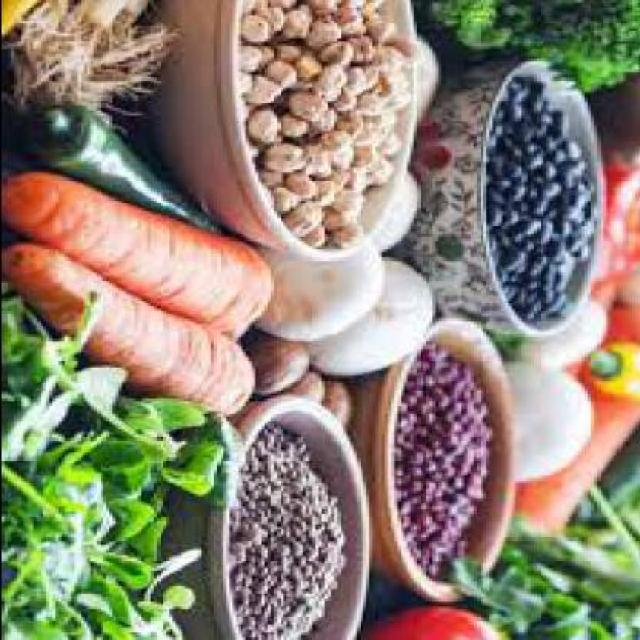BIODEGRADABLE: (3, 177, 275, 340), (3, 247, 260, 416), (452, 491, 638, 640), (3, 406, 168, 568), (488, 82, 595, 324), (22, 108, 226, 234), (402, 347, 498, 578), (6, 2, 177, 121), (0, 550, 206, 638), (440, 3, 638, 94), (269, 427, 349, 639), (314, 260, 437, 380), (260, 247, 386, 342), (507, 365, 596, 486), (3, 340, 92, 445), (232, 470, 280, 638), (522, 303, 612, 375), (76, 370, 156, 450), (453, 563, 539, 632), (357, 610, 501, 638), (3, 378, 51, 462), (377, 174, 425, 254), (248, 342, 314, 398), (92, 447, 158, 499), (583, 580, 639, 640), (164, 444, 222, 498), (590, 344, 638, 404), (110, 495, 162, 548), (36, 391, 70, 460), (143, 398, 206, 434), (209, 416, 251, 469), (422, 41, 443, 116), (134, 522, 171, 563), (355, 116, 396, 152), (285, 95, 330, 126), (285, 203, 326, 237), (320, 386, 354, 426), (4, 2, 38, 40), (320, 138, 358, 172), (253, 111, 284, 149), (308, 23, 344, 54), (270, 144, 307, 174), (292, 375, 330, 403), (314, 45, 358, 69), (264, 62, 301, 90), (323, 212, 365, 236), (250, 82, 284, 110), (333, 193, 367, 221), (358, 21, 396, 44), (279, 15, 310, 43), (390, 39, 421, 66), (349, 42, 383, 66), (333, 228, 370, 250), (273, 41, 310, 62), (310, 111, 342, 135), (286, 178, 320, 200), (314, 75, 341, 102), (336, 13, 367, 36), (355, 93, 383, 118), (345, 69, 367, 100), (349, 168, 374, 195), (285, 118, 313, 142), (245, 49, 266, 80), (245, 19, 269, 46), (384, 78, 411, 102), (308, 2, 342, 21), (336, 115, 364, 138), (371, 162, 395, 187), (308, 152, 332, 177), (381, 52, 408, 74), (260, 13, 285, 36), (381, 134, 405, 157), (355, 150, 380, 172), (273, 192, 298, 214), (257, 48, 278, 70), (339, 95, 361, 116), (387, 98, 411, 116), (302, 62, 320, 80), (371, 72, 386, 93), (241, 79, 253, 98), (345, 3, 364, 15), (371, 3, 383, 15)
